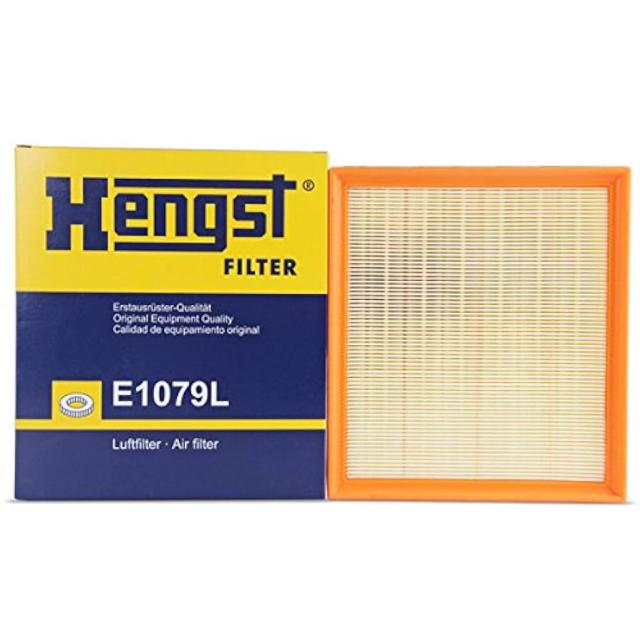air_filter: (326, 163, 634, 505)
